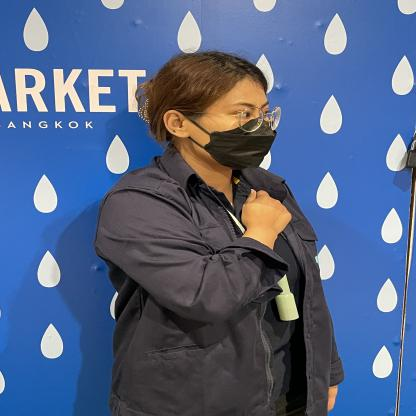Sadness: (150, 184, 327, 308)
